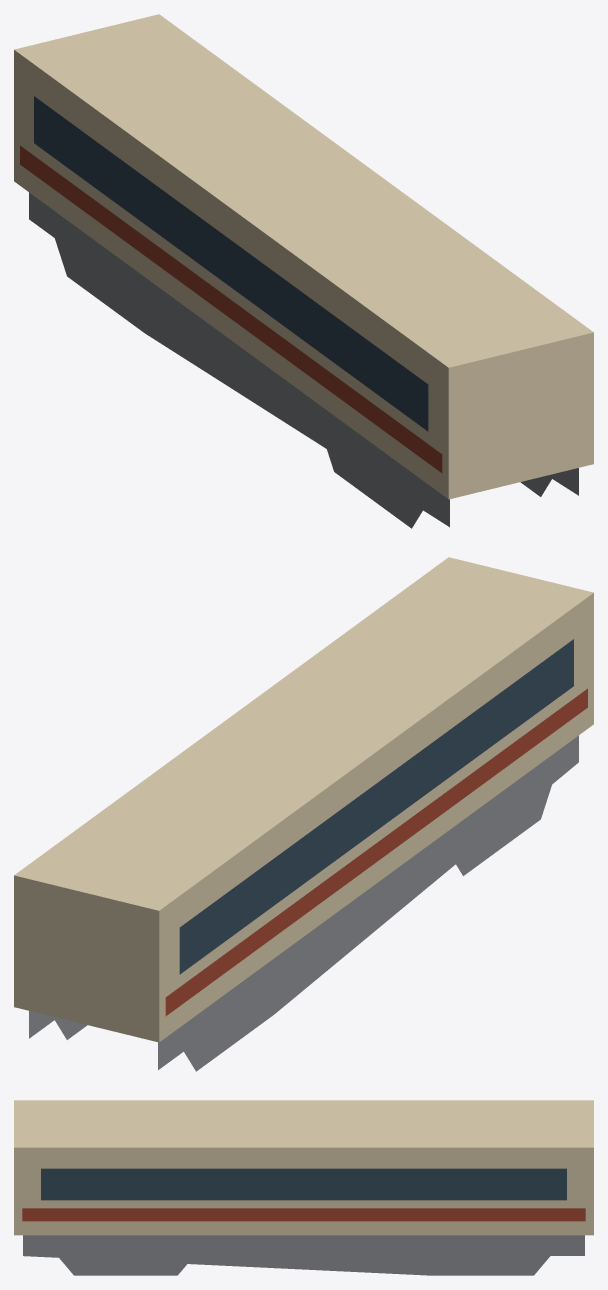
Rendered from middle_3_far.fbx.
3 renders of one model, top to bottom at view 1: azimuth 30°, elevation 25°; view 2: azimuth 150°, elevation 25°; view 3: azimuth 270°, elevation 25°, orthographic. The views are drawn at different scales.
Parts seen in each view (by area): view 1: 24_middle_3_far; view 2: 24_middle_3_far; view 3: 24_middle_3_far.
Boxes of the visible parts, x1,y1,x2,y2 form: 24_middle_3_far: (14,14,593,528); 24_middle_3_far: (14,557,593,1071); 24_middle_3_far: (14,1100,593,1275).
Bounding box in the file's own units: 2.71 × 3.48 × 14.
